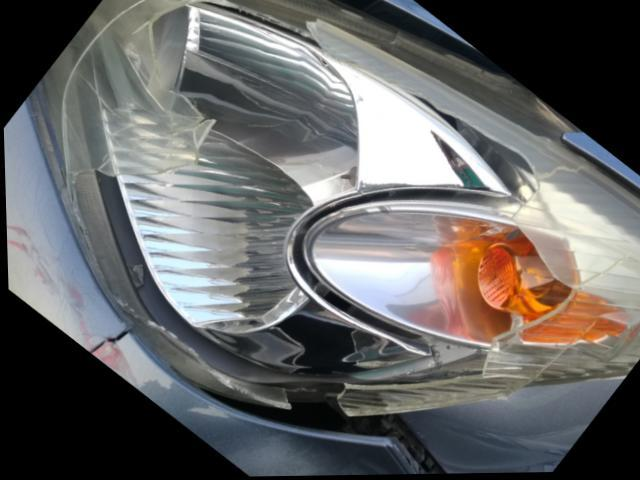crack: (85, 328, 128, 355)
dislocated part: (317, 0, 584, 136)
lamp broken: (35, 0, 640, 420)
scratch: (5, 199, 88, 348)
